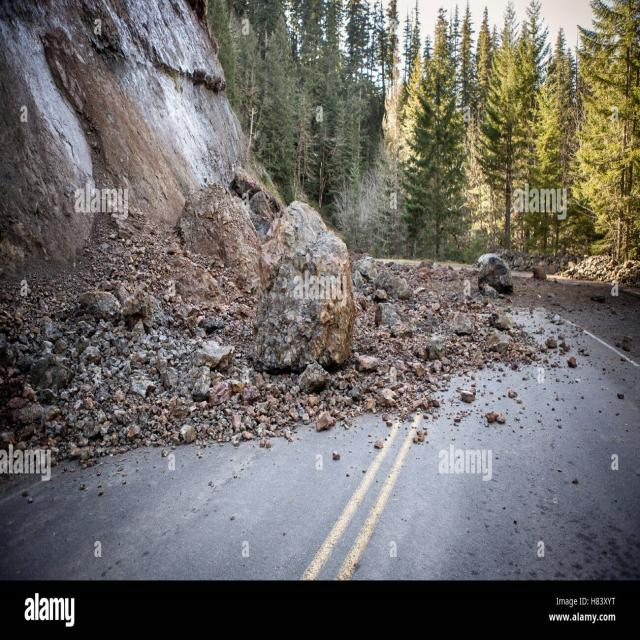landSliding: (55, 75, 614, 480)
